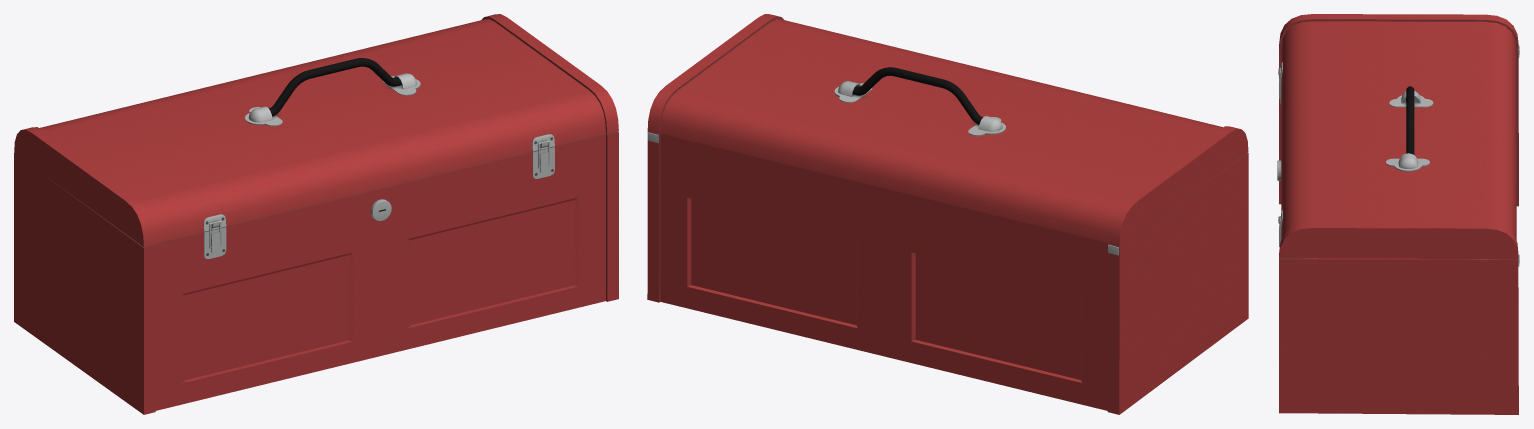
Rendered from tool_box.glb.
3 views of the same model, side by side, from view 1: azimuth 30°, elevation 25°; view 2: azimuth 150°, elevation 25°; view 3: azimuth 270°, elevation 25° (orthographic). The views are drawn at different scales.
Visible parts, largest first — view 1: Box_Base_01 - Default_0, Cover_Box_01 - Default_0; view 2: Box_Base_01 - Default_0, Cover_Box_01 - Default_0; view 3: Cover_Box_01 - Default_0, Box_Base_01 - Default_0.
Part boxes in pixels (x1=…): Box_Base_01 - Default_0: x1=14, y1=131, x2=618, y2=414; Cover_Box_01 - Default_0: x1=14, y1=14, x2=618, y2=246; Box_Base_01 - Default_0: x1=647, y1=132, x2=1248, y2=414; Cover_Box_01 - Default_0: x1=647, y1=14, x2=1248, y2=246; Cover_Box_01 - Default_0: x1=1278, y1=14, x2=1518, y2=258; Box_Base_01 - Default_0: x1=1277, y1=45, x2=1519, y2=414.
Size of the model in its own units: 376 by 179 by 180.
1 material, 1 textured.
